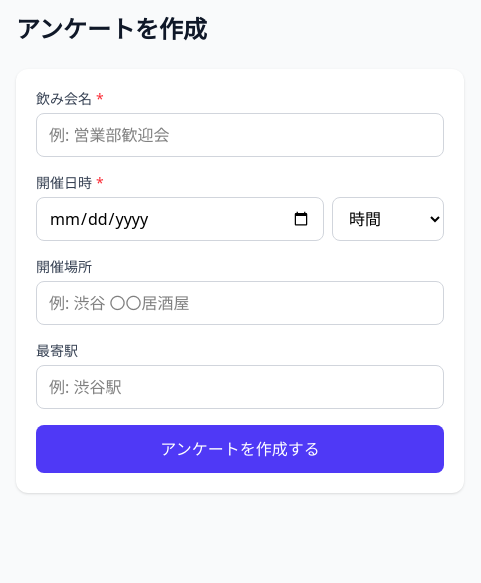
Test case: CreateRoomPage バリデーション › U15: 飲み会名が空でsubmitしたときエラーメッセージを表示する
Click the button "アンケートを作成する".
click(240, 449)  # box [36,425,444,473]
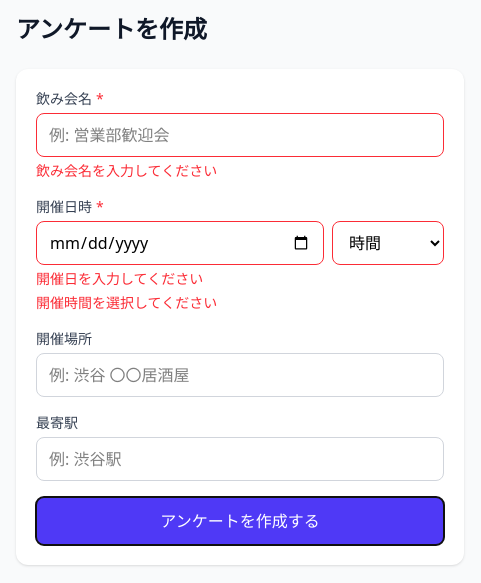
expect the text "飲み会名を入力してください" is shown: met, box [36,161,217,180]
